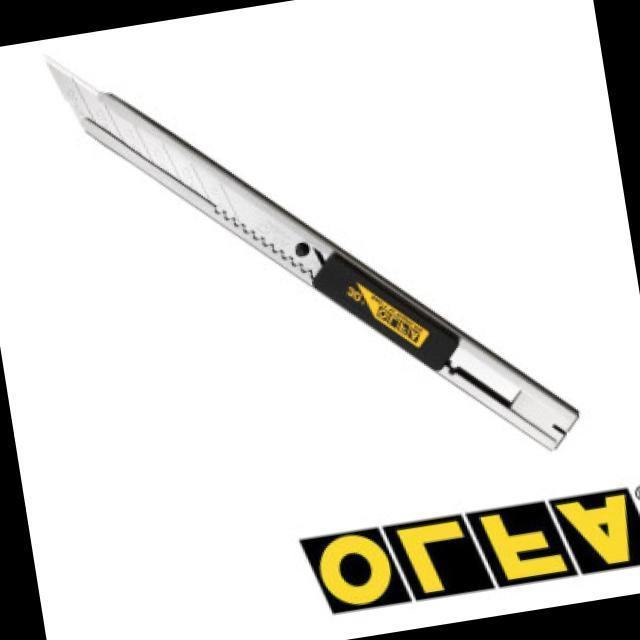cutter: (43, 0, 607, 522)
